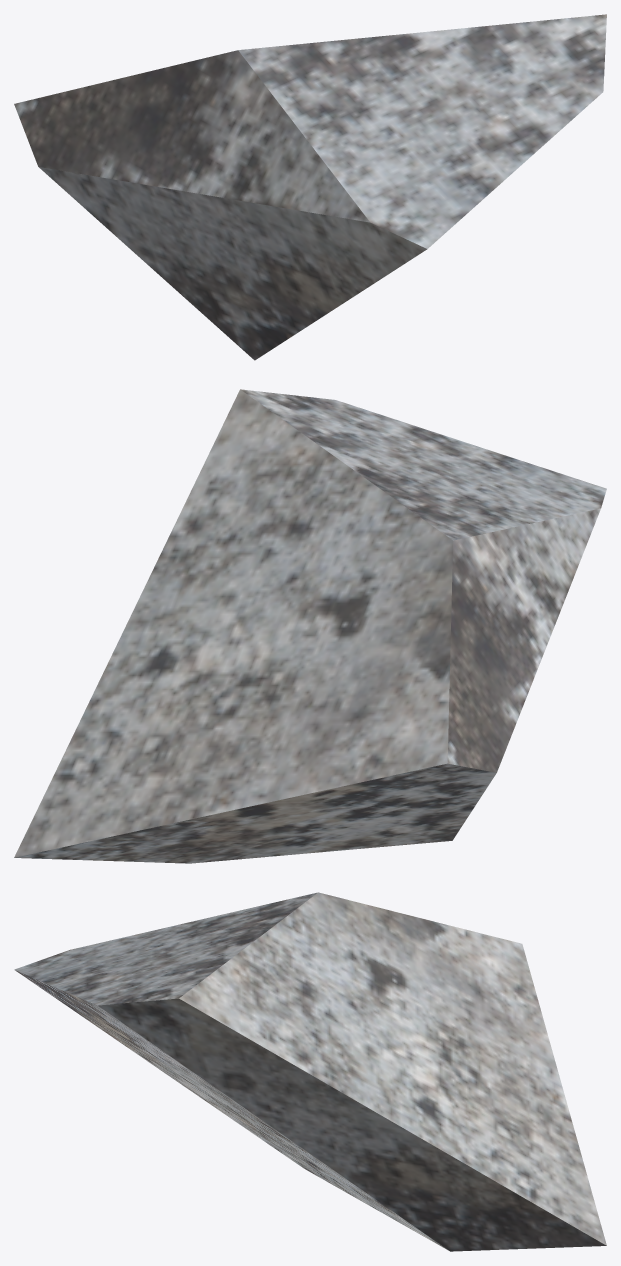
The model's file is Asteroid_Large_001_02_008_03_024.fbx.
3 views of the same model, one above another, from view 1: azimuth 30°, elevation 25°; view 2: azimuth 150°, elevation 25°; view 3: azimuth 270°, elevation 25° (orthographic). The views are drawn at different scales.
Parts seen in each view (by area): view 1: Asteroid_Large_001_02_008_03_024; view 2: Asteroid_Large_001_02_008_03_024; view 3: Asteroid_Large_001_02_008_03_024.
Boxes of the visible parts, box(x1,y1,x2,y2) form: Asteroid_Large_001_02_008_03_024: box(14, 14, 606, 360); Asteroid_Large_001_02_008_03_024: box(14, 389, 606, 863); Asteroid_Large_001_02_008_03_024: box(14, 892, 606, 1251).
Size of the model in its own units: 5.32 by 4.13 by 7.46.
